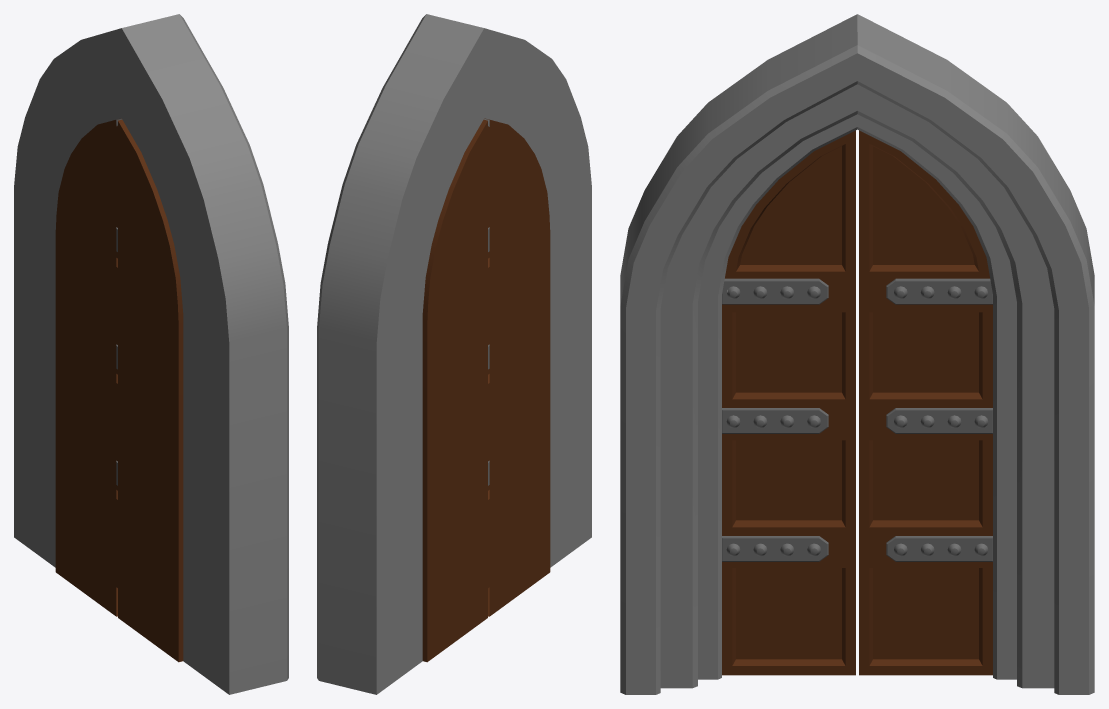
File: Door_Start.fbx
3 views of the same model, side by side, from view 1: azimuth 30°, elevation 25°; view 2: azimuth 150°, elevation 25°; view 3: azimuth 270°, elevation 25° (orthographic). The views are drawn at different scales.
Visible parts, largest first — view 1: Small_Door_Frame, Small_Door; view 2: Small_Door_Frame, Small_Door; view 3: Small_Door_Frame, Small_Door.
Boxes of the visible parts, x1,y1,x2,y2 form: Small_Door_Frame: (14, 14, 288, 694); Small_Door: (55, 118, 183, 662); Small_Door_Frame: (317, 14, 591, 694); Small_Door: (422, 118, 550, 662); Small_Door_Frame: (620, 14, 1094, 694); Small_Door: (722, 130, 992, 675).
Bounding box in the file's own units: 47.4 × 400 × 265.
